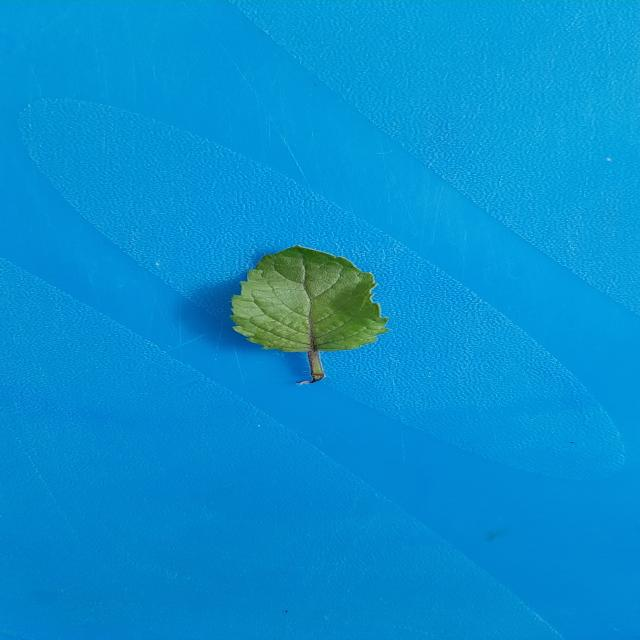defectedtulsi: (233, 246, 374, 305)
tulsi: (230, 246, 387, 384)
